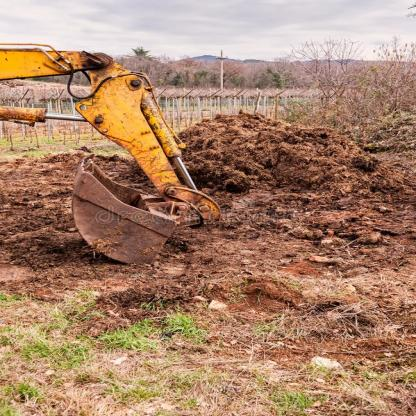excavator: (0, 34, 223, 266)
